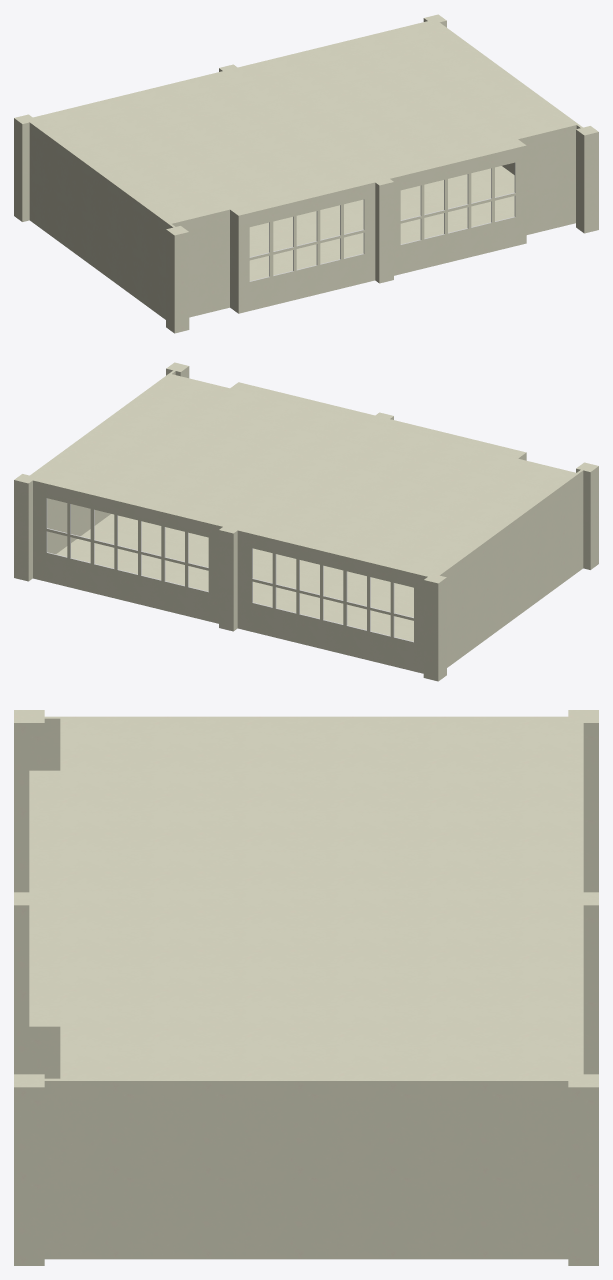
Rendered from Laboratory-transformed.glb.
3 renders of one model, top to bottom at view 1: azimuth 30°, elevation 25°; view 2: azimuth 150°, elevation 25°; view 3: azimuth 270°, elevation 25°, orthographic. The views are drawn at different scales.
Visible parts, largest first — view 1: Room; view 2: Room; view 3: Room.
Boxes of the visible parts, x1=… form: Room: x1=14, y1=14, x2=598, y2=333; Room: x1=14, y1=362, x2=598, y2=681; Room: x1=14, y1=710, x2=598, y2=1265.
Size of the model in its own units: 14.5 by 3.2 by 9.5.
Materials: 1 (1 with a texture image).
